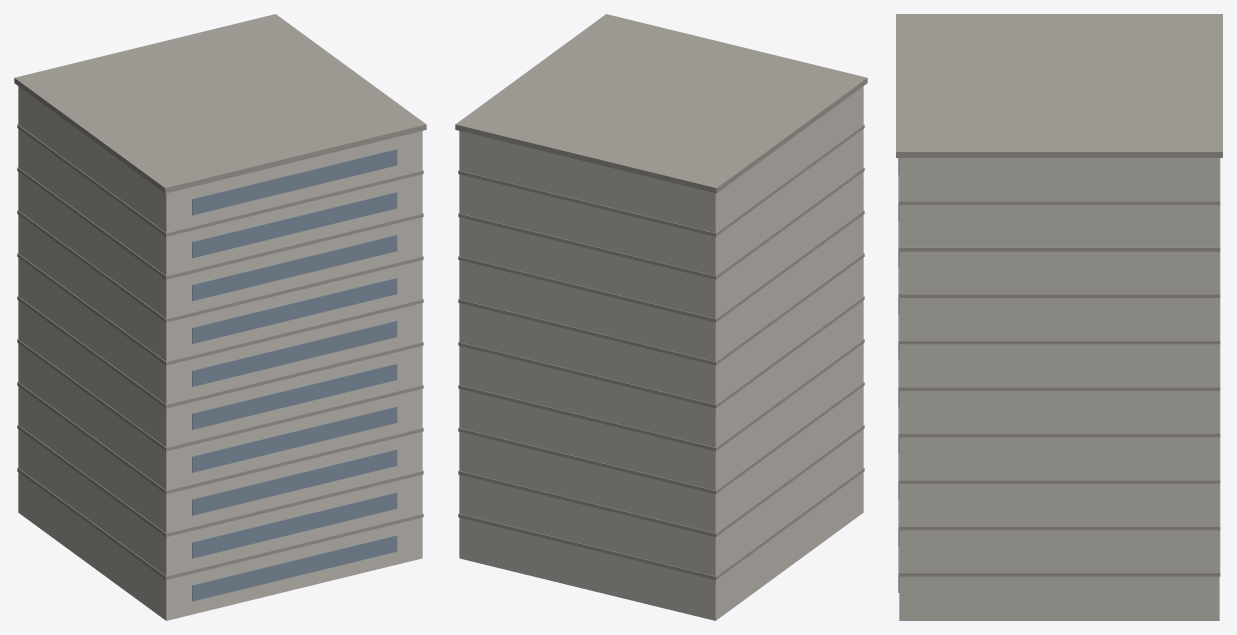
Rendered from office.glb.
The picture shows the model from 3 angles, left to right: view 1: azimuth 30°, elevation 25°; view 2: azimuth 150°, elevation 25°; view 3: azimuth 270°, elevation 25°; orthographic projection. The views are drawn at different scales.
Parts seen in each view (by area): view 1: world; view 2: world; view 3: world.
Part boxes in pixels (bbox=[...]): world: bbox=[14, 14, 426, 620]; world: bbox=[455, 14, 867, 620]; world: bbox=[896, 14, 1222, 620].
Size of the model in its own units: 20.4 by 32.4 by 20.4.
